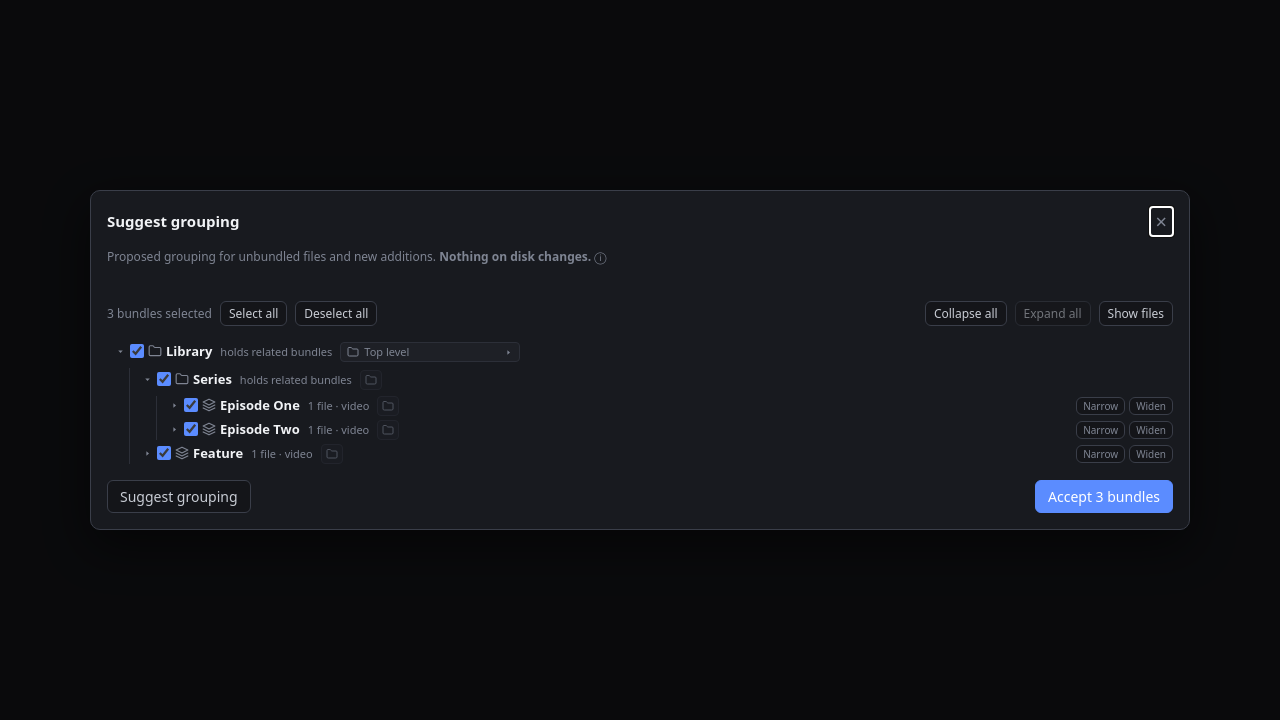
Test: folds and restores descendant proposals under a collection
This screenshot has width=1280, height=720.
Expected: the button with aria-label "Rename collection suggestion Series" is shown, [193, 370, 232, 388]
Click the button named "Collapse collection suggestion Library" at x=120, y=351, box [113, 342, 127, 360]
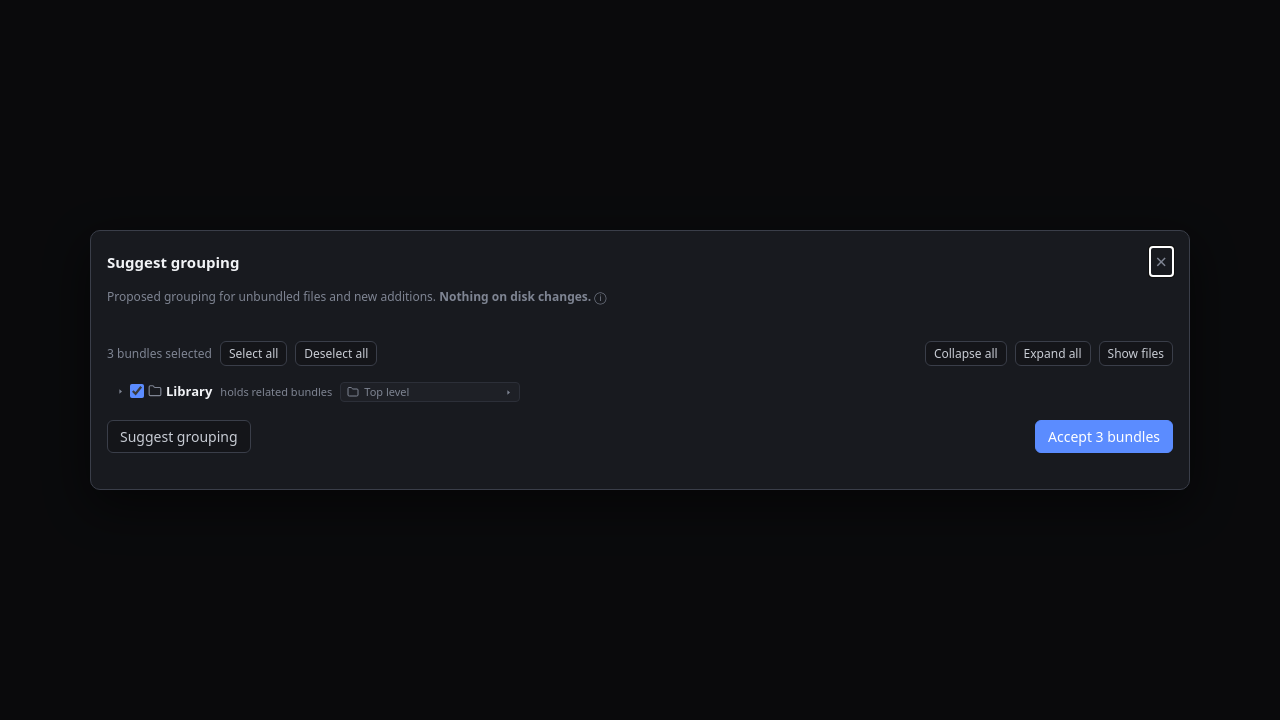
Expected: the text "3 bundles selected" is shown, [107, 345, 212, 362]
Click the button named "Expand collection suggestion Library" at x=120, y=391, box [113, 382, 127, 400]
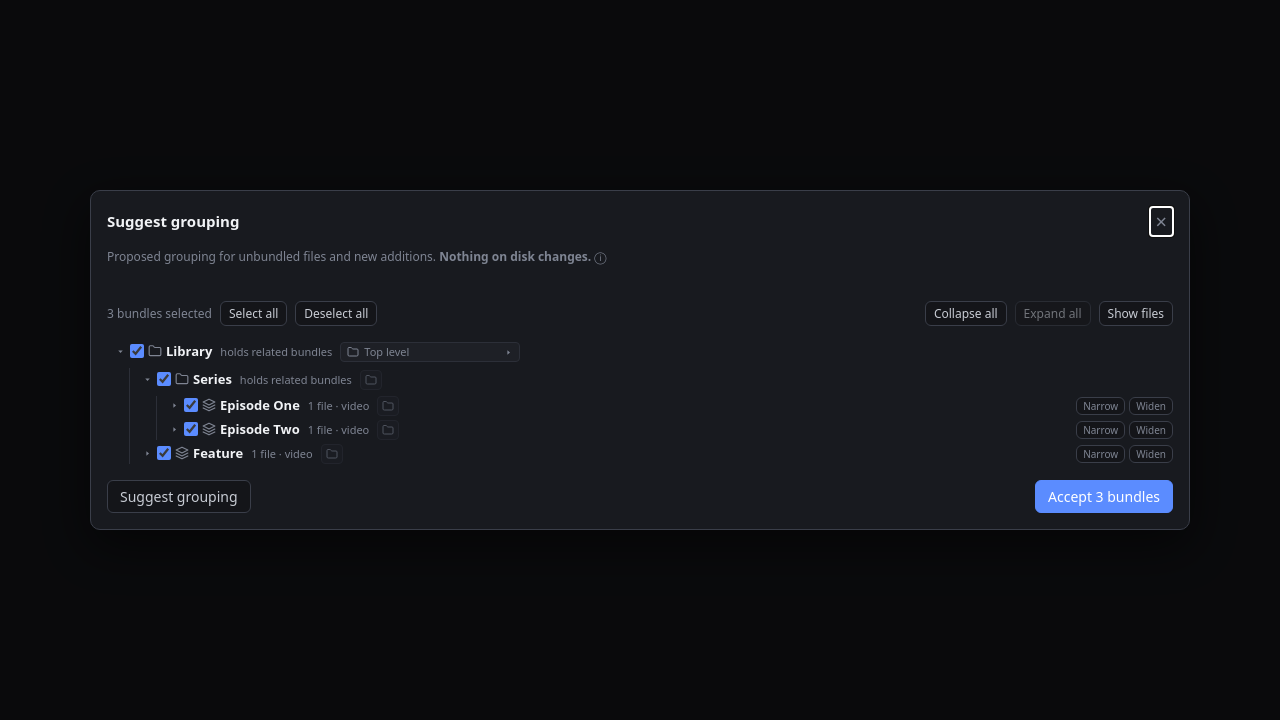
Expected: the button with aria-label "Rename collection suggestion Series" is shown, [193, 370, 232, 388]
